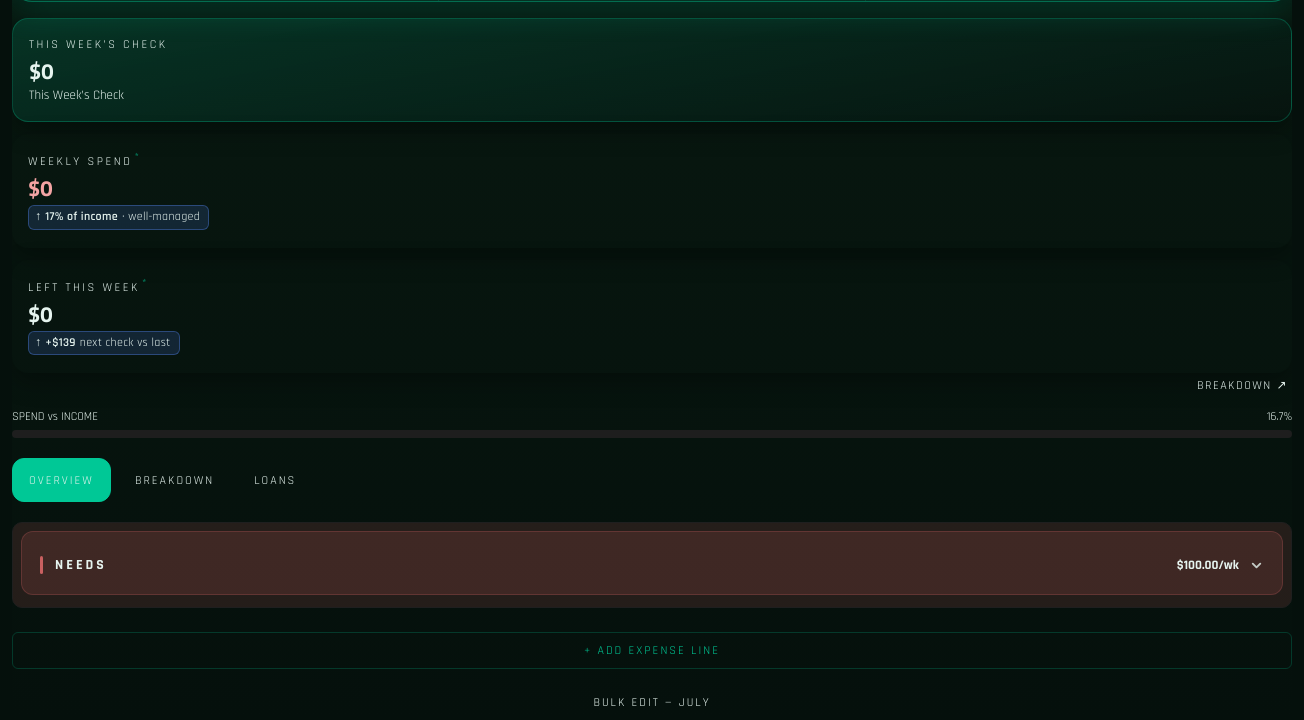
Scenario: BudgetPanel — readOnly paywall mode › expands a category on header tap when entitled
This screenshot has width=1304, height=720.
(page scrolled)
Click the button "Needs $100.00/wk" at point(81, 565), box left=21, top=531, right=1283, bottom=595
(page scrolled)
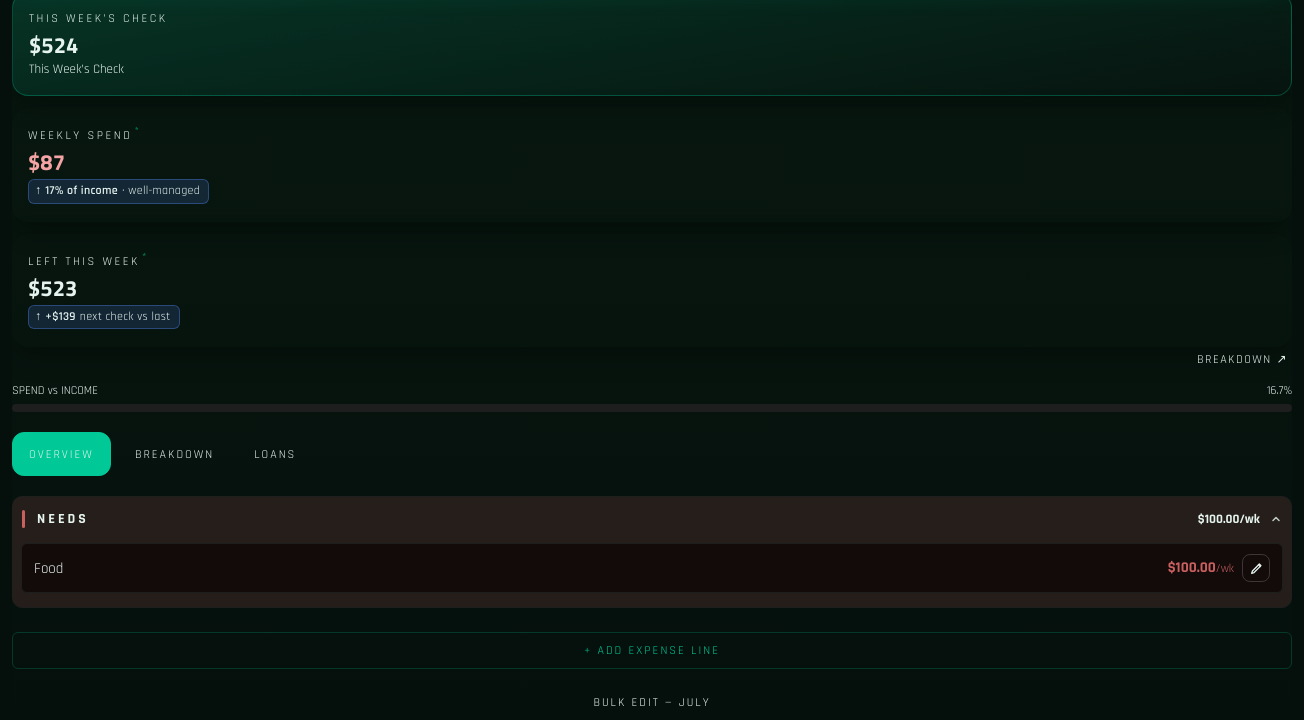
Expected: the button "Needs $100.00/wk" is expanded, left=22, top=510, right=1282, bottom=528
